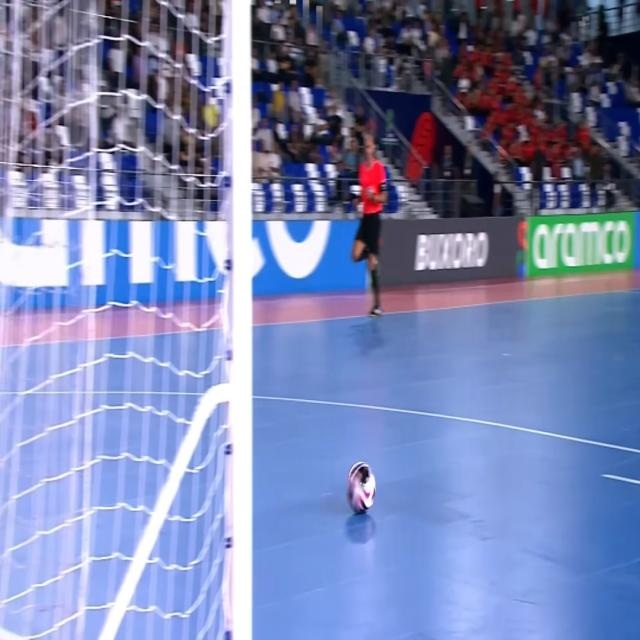Ball: (342, 458, 375, 516)
Goal: (0, 0, 249, 640)
Referee: (346, 136, 387, 333)
